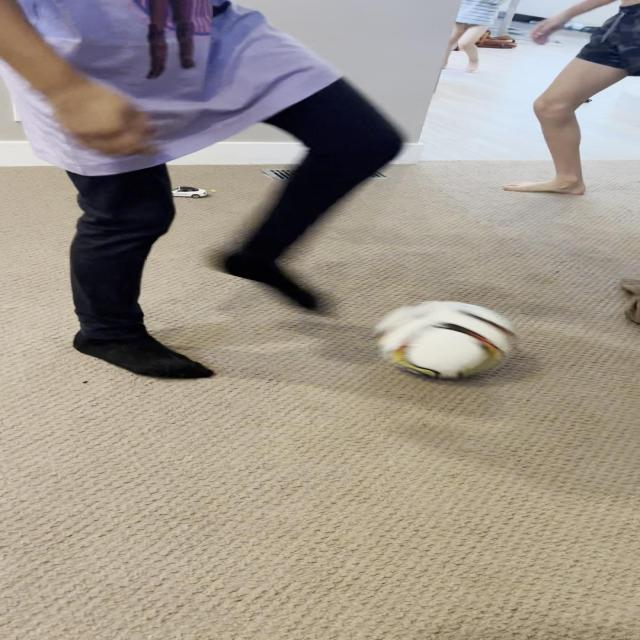Soccer Ball: (379, 299, 514, 378)
